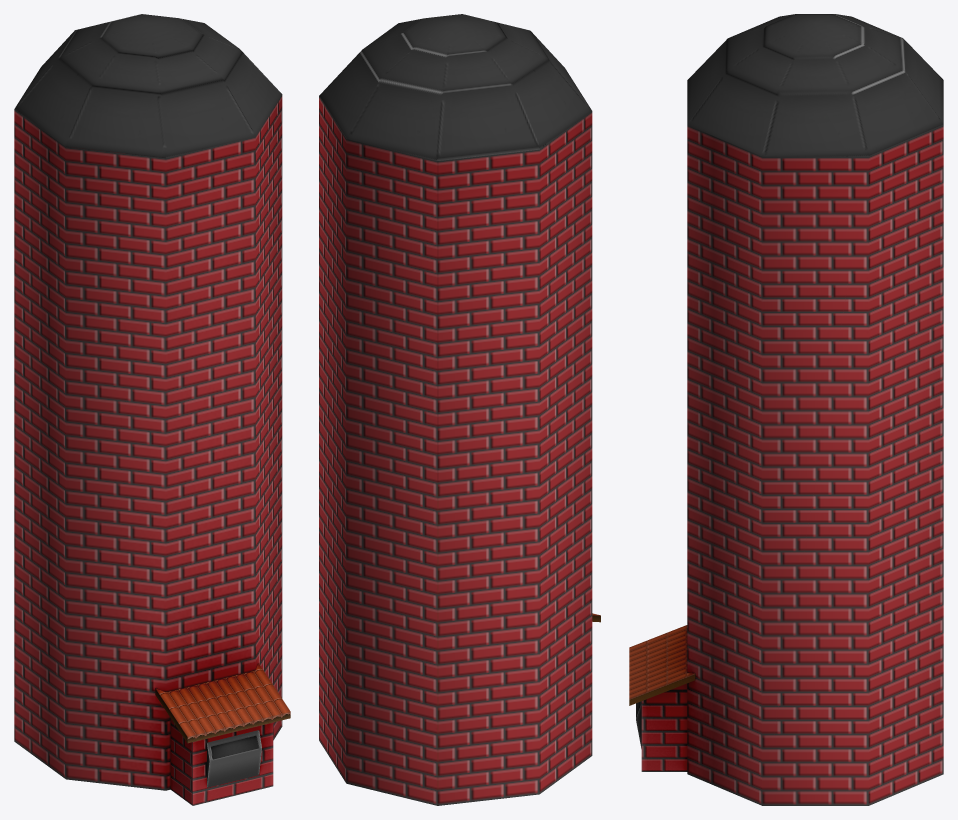
The model's file is silo.fbx.
The picture shows the model from 3 angles, left to right: view 1: azimuth 30°, elevation 25°; view 2: azimuth 150°, elevation 25°; view 3: azimuth 270°, elevation 25°; orthographic projection. The views are drawn at different scales.
Visible parts, largest first — view 1: silo_geo; view 2: silo_geo; view 3: silo_geo.
Part boxes in pixels (<box>): silo_geo: <box>14,14,290,805</box>; silo_geo: <box>319,14,600,805</box>; silo_geo: <box>629,14,943,805</box>.
Size of the model in its own units: 0.0417 by 0.131 by 0.0512.
